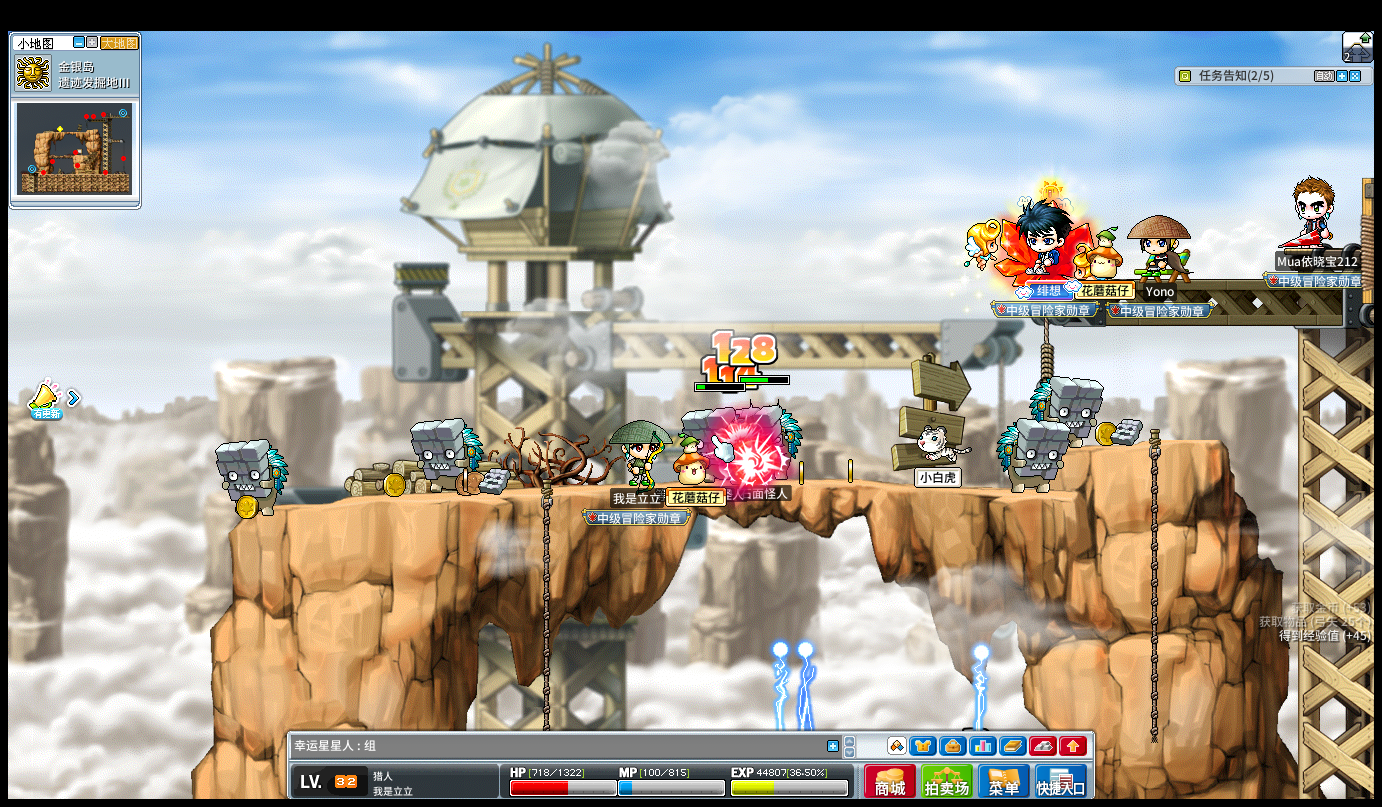floor: (237, 478, 1013, 510), (241, 476, 1146, 499), (1073, 435, 1224, 451)
monster: (725, 402, 804, 483), (215, 439, 289, 519), (410, 417, 482, 495), (996, 418, 1068, 495), (1046, 374, 1104, 447)
rope: (1145, 426, 1161, 747), (538, 475, 551, 775), (540, 478, 552, 678)
